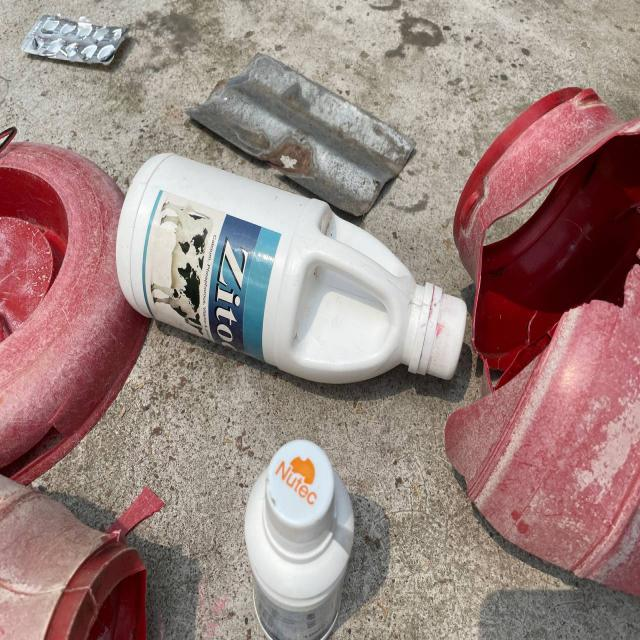E-waste: (21, 7, 135, 67)
Metal: (191, 47, 419, 180)
Plastics: (0, 129, 640, 640)
